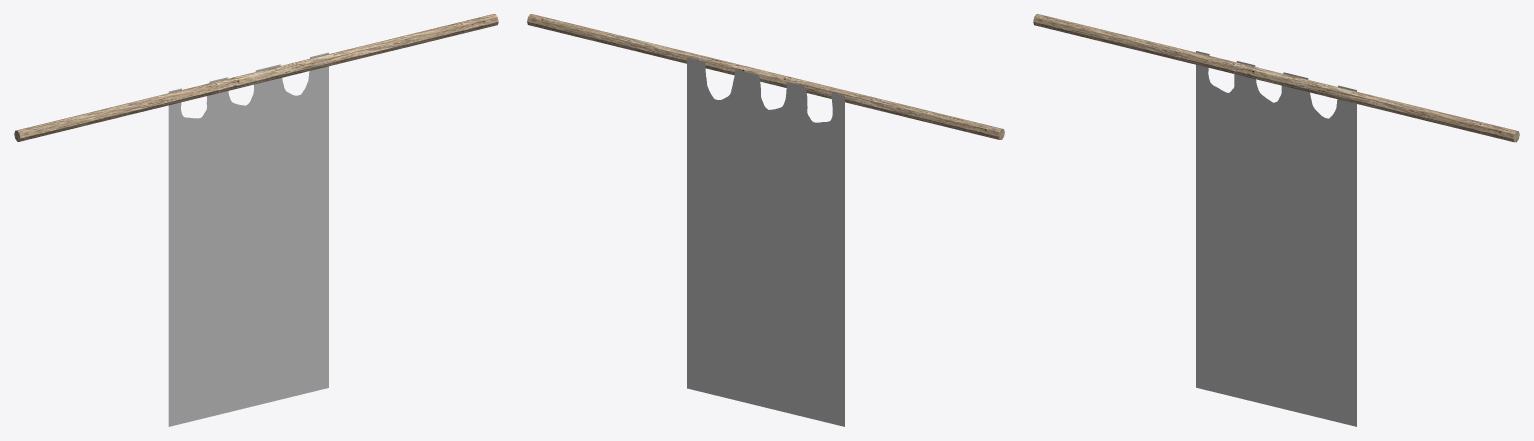
The model's file is bloodraven_longhouse_raven_banner.FBX.
3 renders of one model, left to right at view 1: azimuth 30°, elevation 25°; view 2: azimuth 150°, elevation 25°; view 3: azimuth 330°, elevation 25°, orthographic.
Parts seen in each view (by area): view 1: bloodraven_longhouse_raven_banner; view 2: bloodraven_longhouse_raven_banner; view 3: bloodraven_longhouse_raven_banner.
Part boxes in pixels (bbox=[...]): bloodraven_longhouse_raven_banner: bbox=[14, 14, 498, 426]; bloodraven_longhouse_raven_banner: bbox=[527, 14, 1004, 426]; bloodraven_longhouse_raven_banner: bbox=[1033, 14, 1519, 426].
Size of the model in its own units: 287 by 7.2 by 193.
